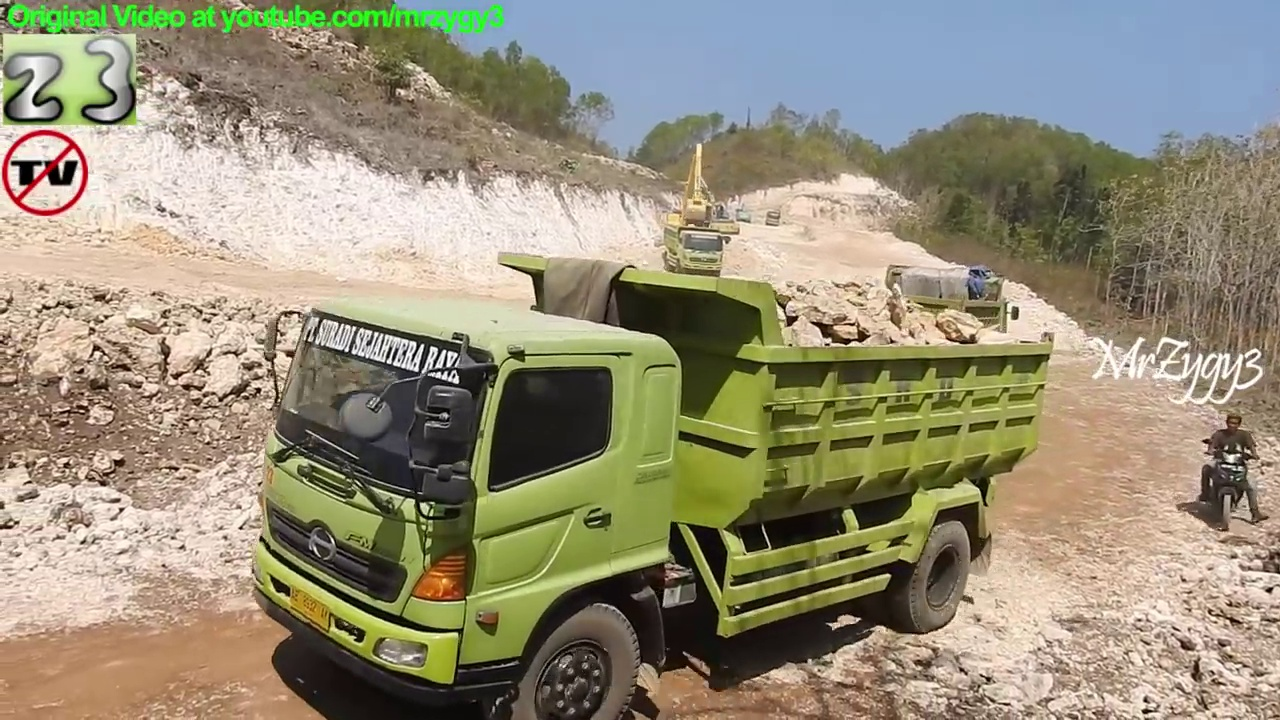excavator: (672, 140, 717, 238), (681, 169, 740, 234), (730, 200, 757, 227)
truck: (243, 245, 1061, 720), (881, 257, 1026, 410), (660, 221, 734, 285), (762, 206, 786, 230)
